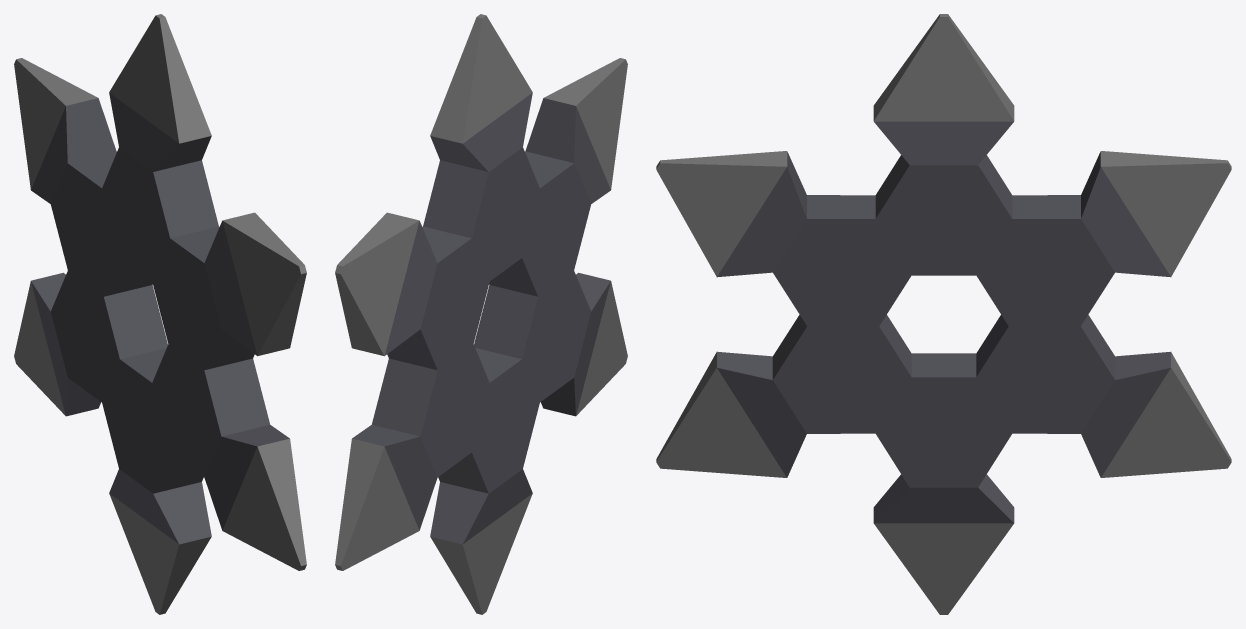
The model's file is Weapon10.fbx.
The picture shows the model from 3 angles, left to right: view 1: azimuth 30°, elevation 25°; view 2: azimuth 150°, elevation 25°; view 3: azimuth 270°, elevation 25°; orthographic projection.
Parts seen in each view (by area): view 1: Shuriken; view 2: Shuriken; view 3: Shuriken.
Boxes of the visible parts, x1,y1,x2,y2 form: Shuriken: [14, 14, 306, 614]; Shuriken: [335, 14, 627, 614]; Shuriken: [656, 14, 1231, 614].
Bounding box in the file's own units: 2.06 × 24.01 × 20.95.
